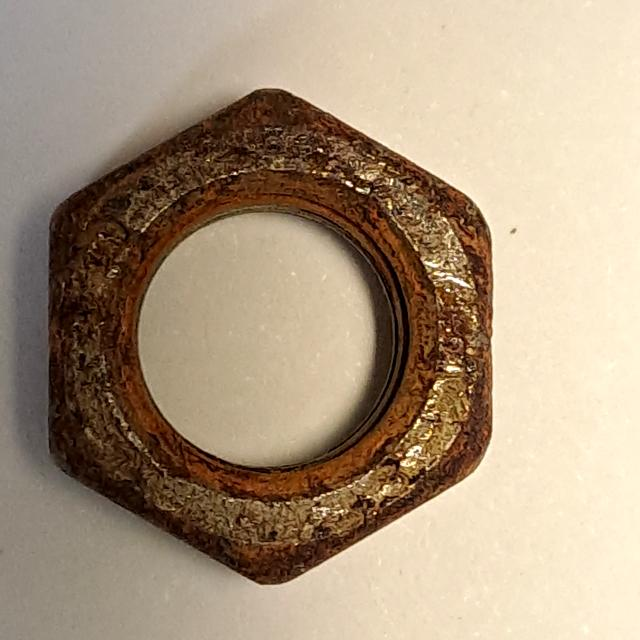Rust: (38, 77, 514, 601)
